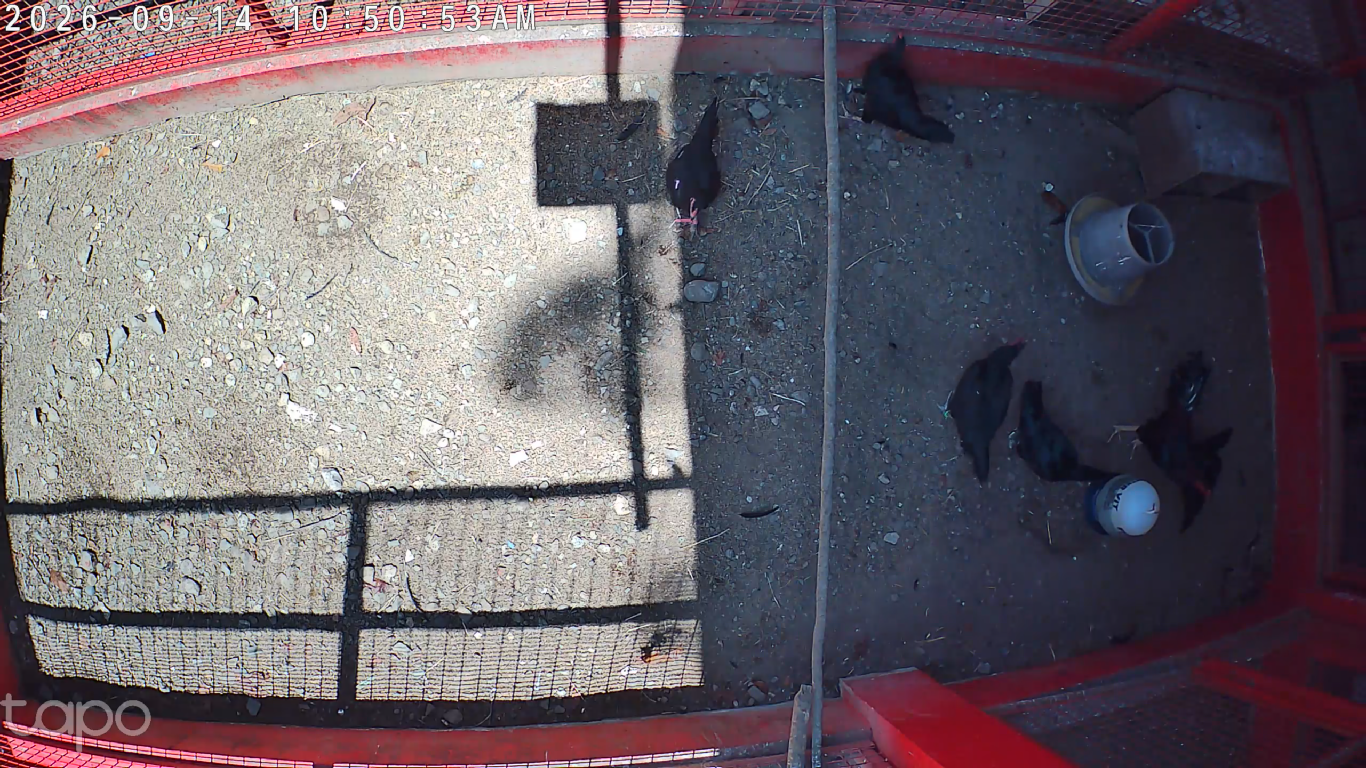Chicken: (935, 339, 1028, 489), (837, 29, 956, 145), (1009, 375, 1117, 483), (665, 98, 725, 245)
Drinker: (1088, 473, 1160, 540)
Feeder: (1064, 193, 1175, 308)
Rooster: (1104, 343, 1215, 504)
